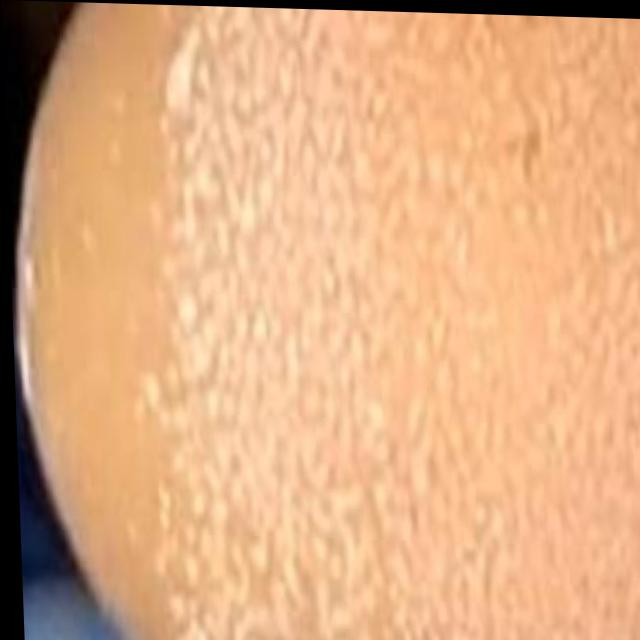unfresh: (13, 0, 640, 640)
